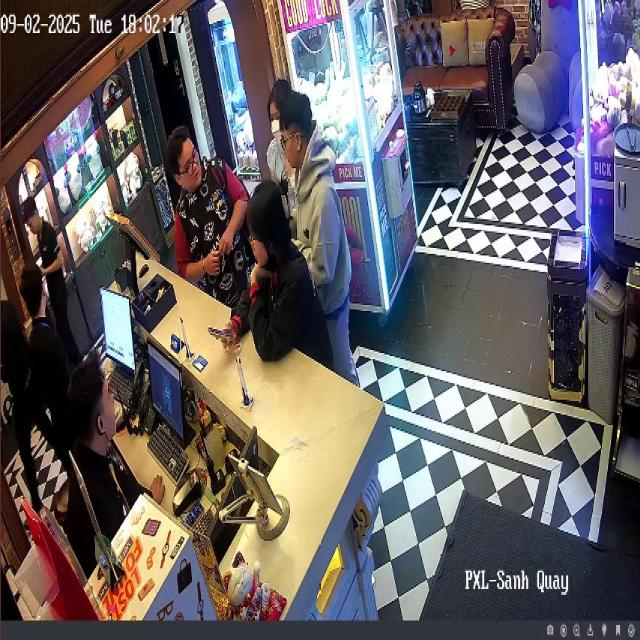khach: (224, 182, 340, 406), (163, 119, 259, 343), (20, 183, 88, 377), (260, 46, 307, 225)
nhan vien: (62, 347, 171, 577), (2, 256, 66, 524), (12, 248, 81, 455)
